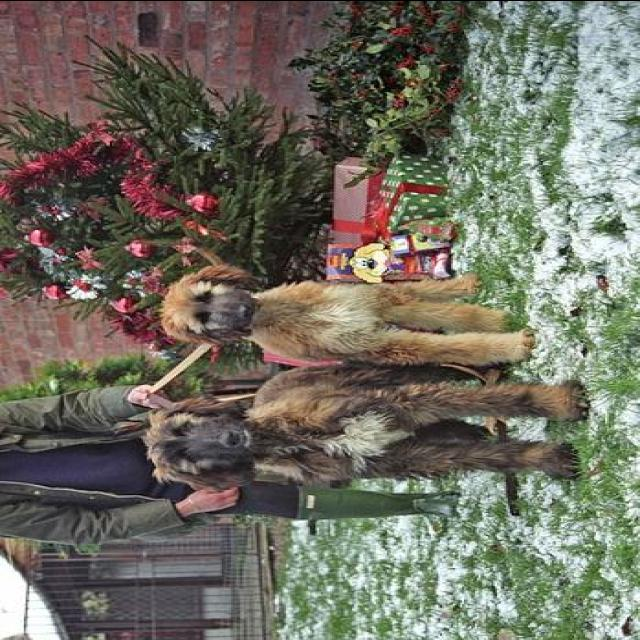afghan_hound: (145, 364, 585, 486), (156, 264, 534, 366)
